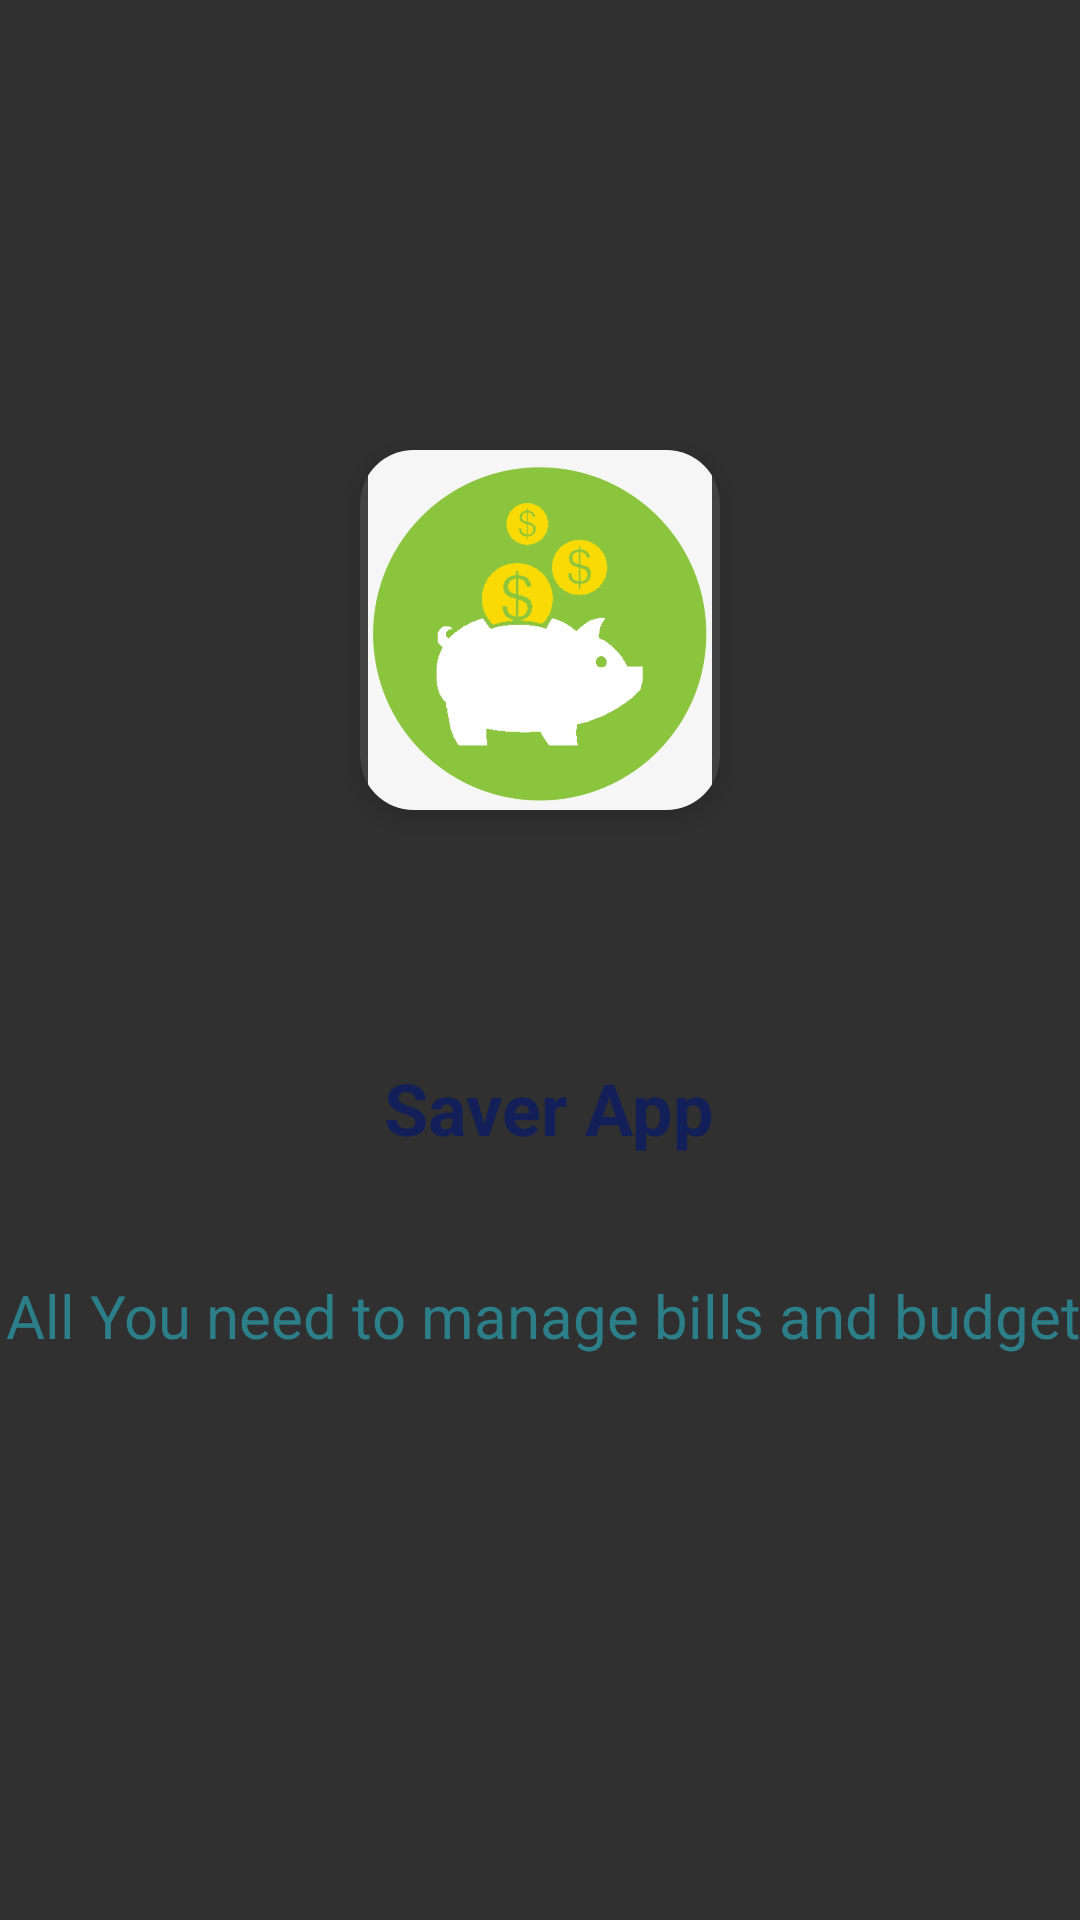

Named icons in this screenshot (1080x1920) and their bounding boxes, BBox(x1, y1, x2, y2):
appicon: BBox(368, 450, 712, 810)
